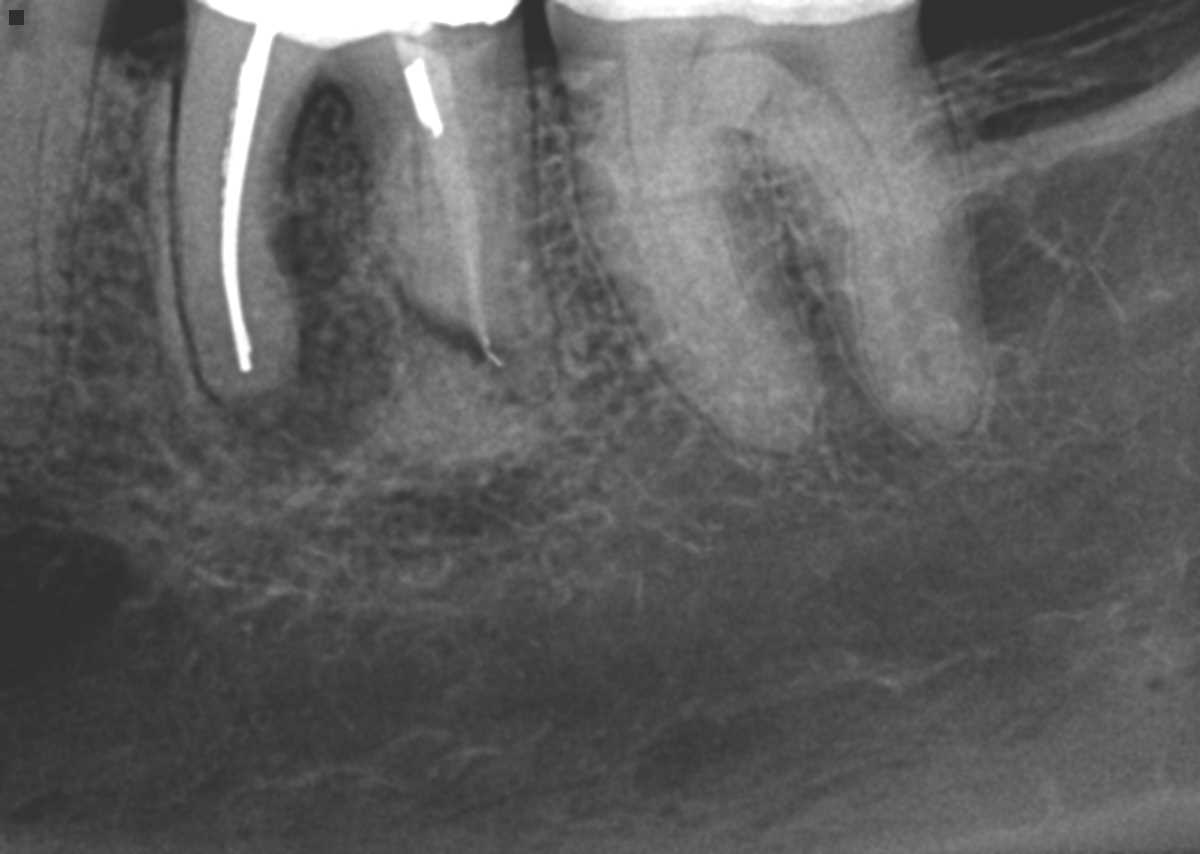Apical Lesion: (201, 115, 406, 486), (395, 296, 518, 373)
Distal Canal: (830, 85, 910, 273)
Distal Root: (774, 41, 990, 437), (343, 48, 555, 352)
Main Root: (0, 47, 94, 450)
Mesial Root: (568, 116, 814, 463), (166, 57, 312, 420)
Root Canal Filling: (405, 44, 503, 371), (215, 23, 278, 380)
